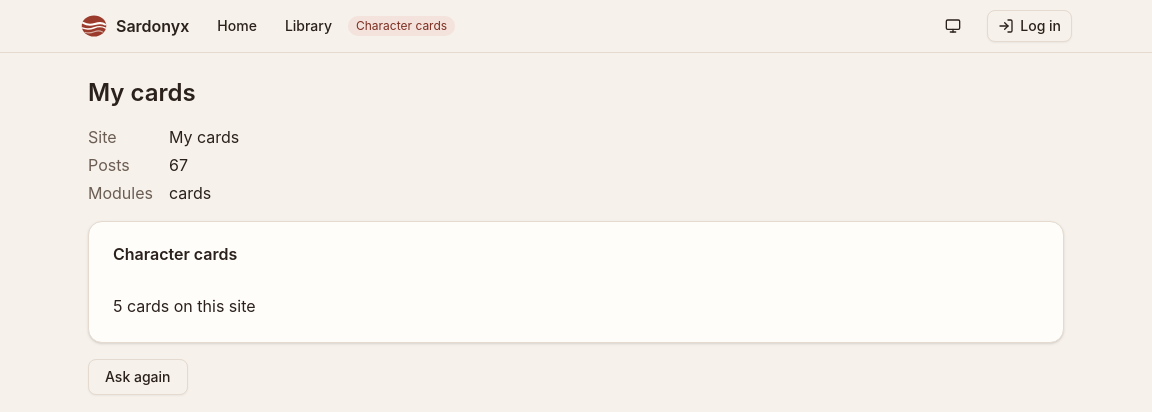
Test: logging in › still logs in when the browser refuses storage, for this page only
Click the link "Log in" at (1030, 26), box [987,10,1072,42]
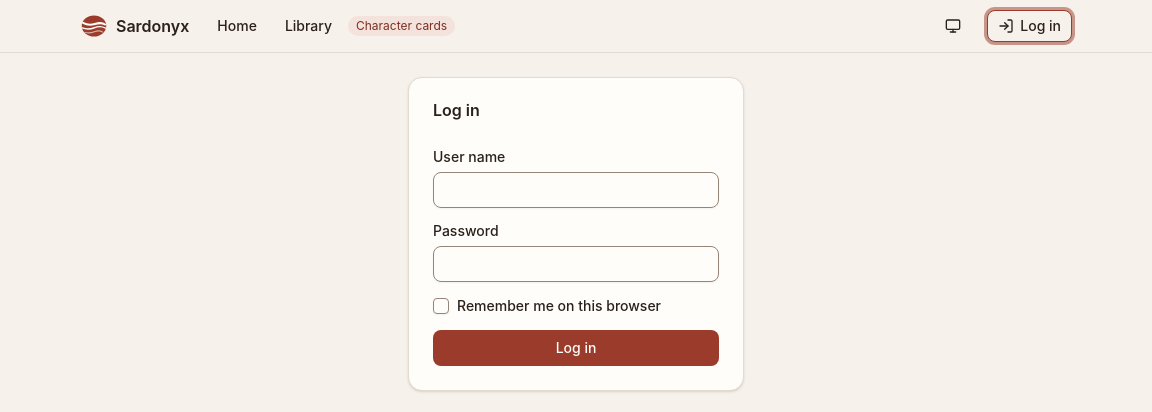
Type "ada" into the field labelled "User name" at (576, 190), box [433,172,719,208]
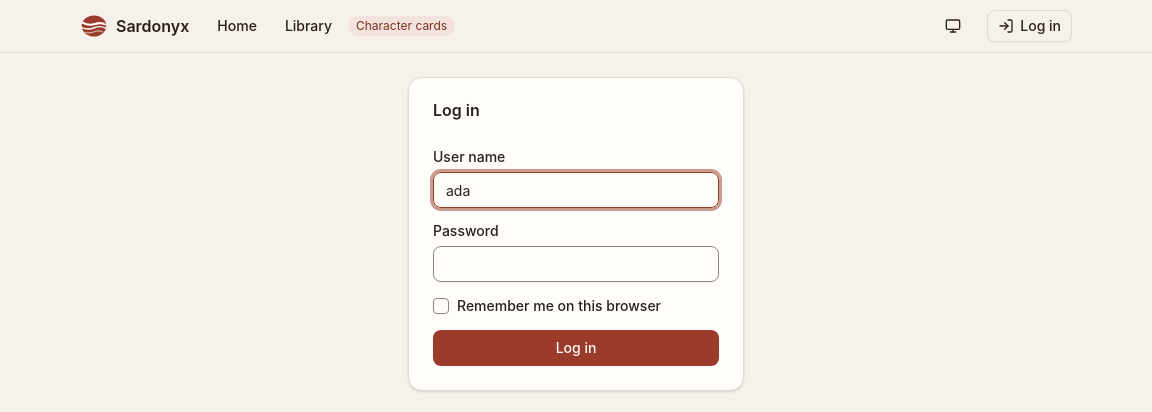
Type "secret!" into the password field labelled "Password" at (576, 264), box [433,246,719,282]
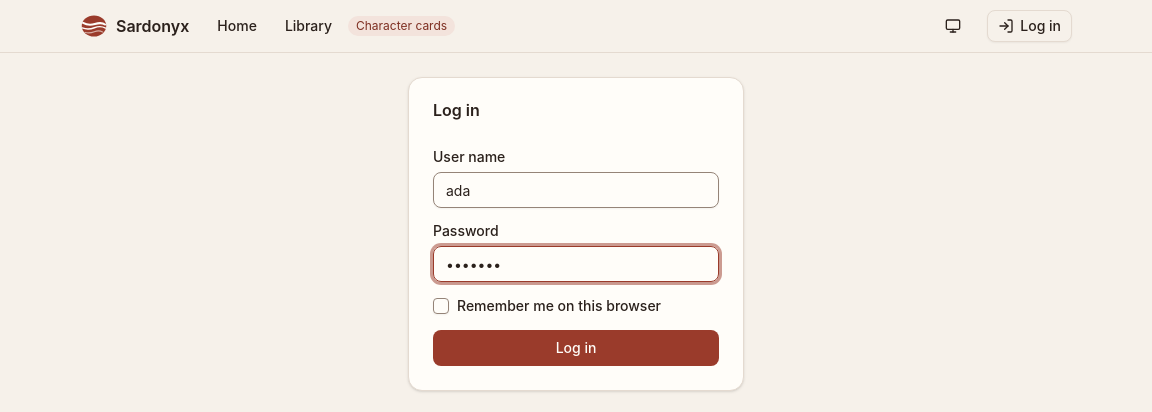
Click the checkbox named "Remember me on this browser" at (441, 306), box [433,298,449,314]
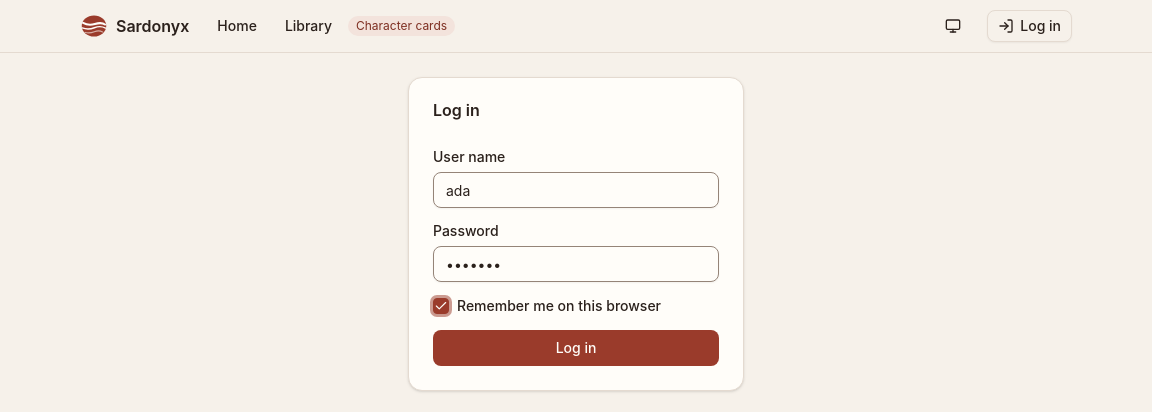
Click the button "Log in" at (576, 348), box [433,330,719,366]
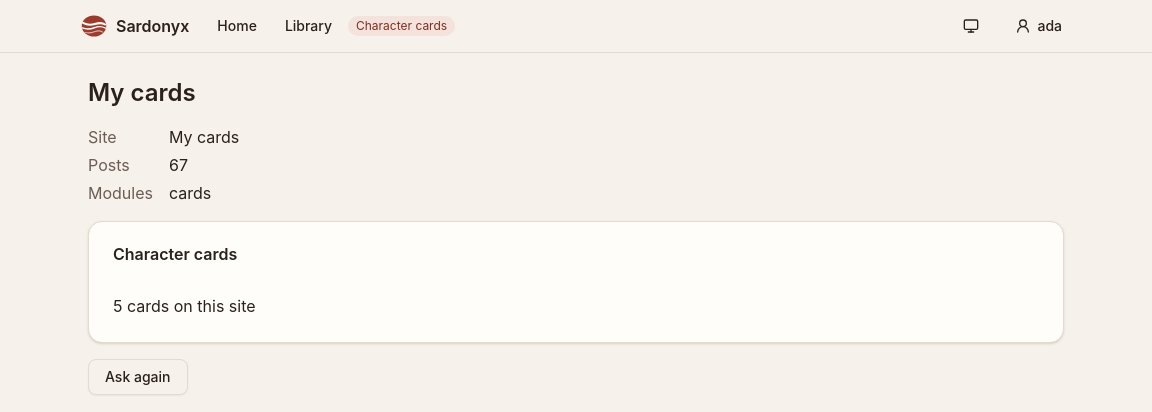
expect the button "ada" is shown: met, box [1005,10,1072,42]
